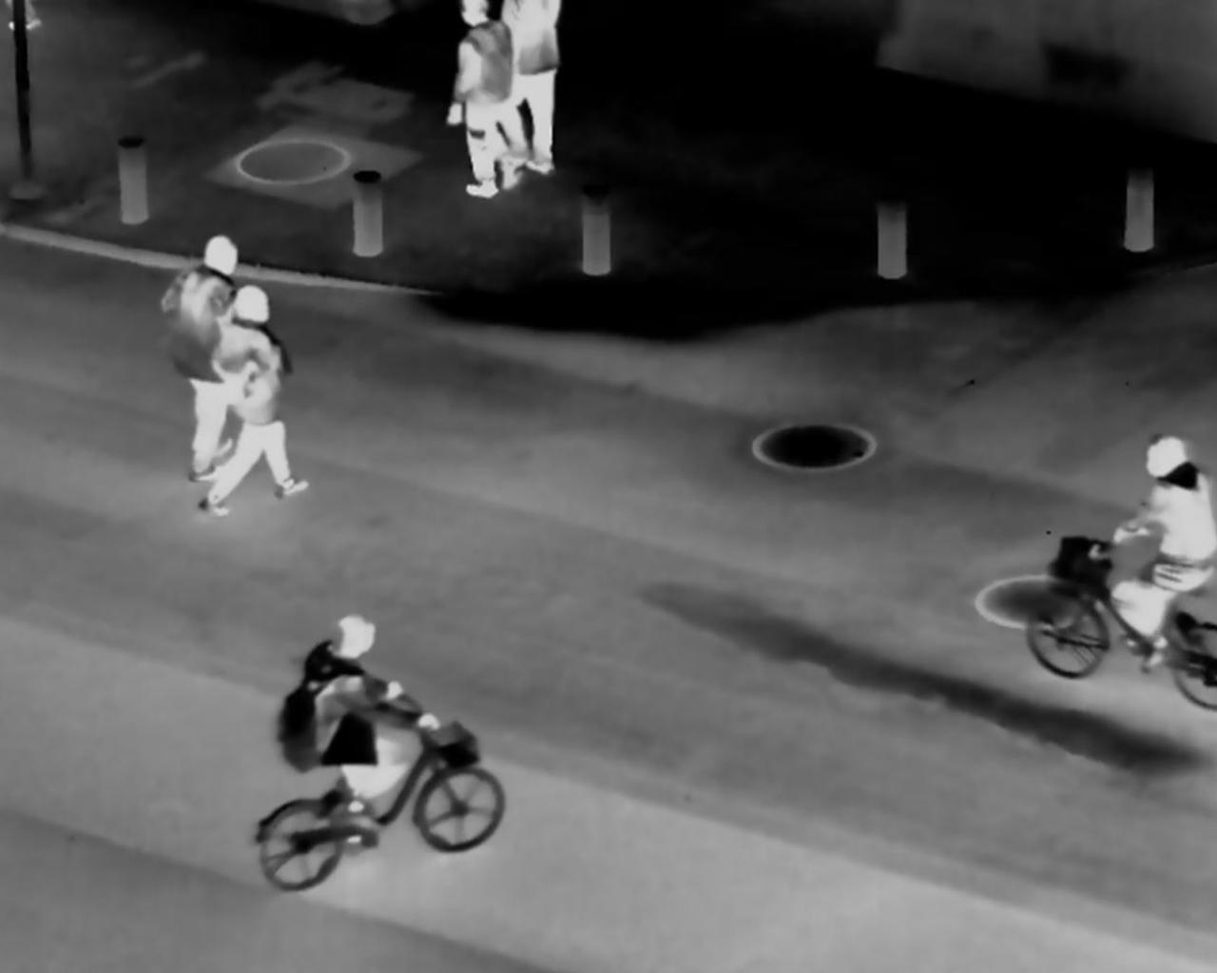person: (282, 609, 416, 804), (204, 275, 295, 510), (1118, 428, 1212, 647), (166, 226, 238, 473), (446, 3, 524, 193)
